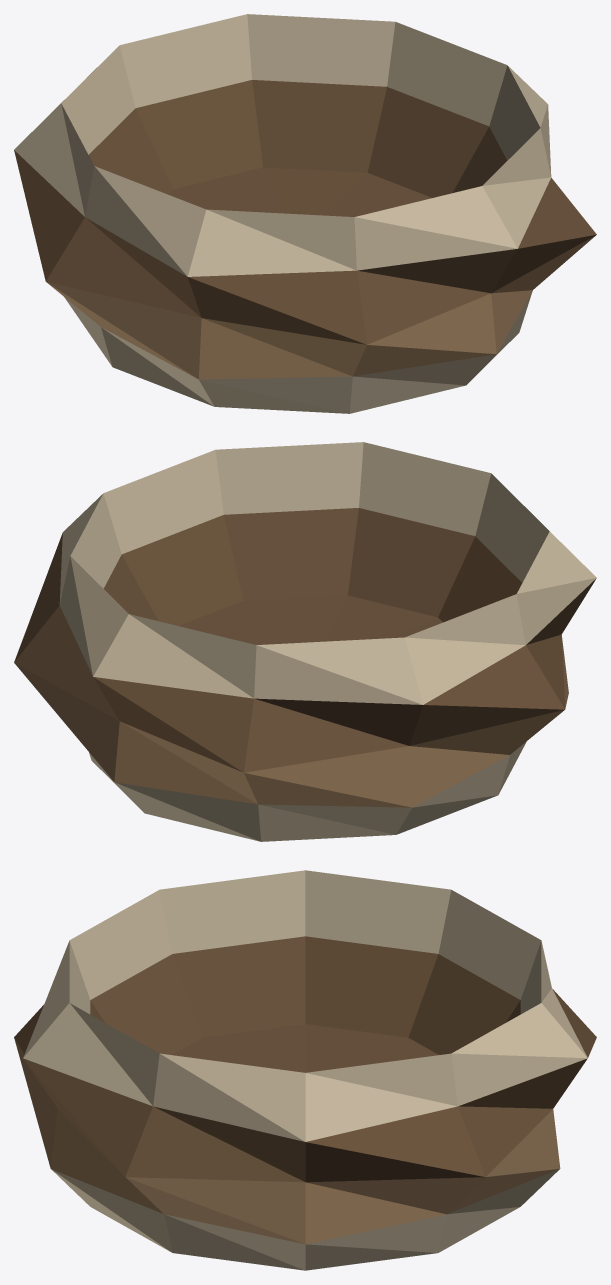
Rendered from acorn_cap.glb.
3 views of the same model, one above another, from view 1: azimuth 30°, elevation 25°; view 2: azimuth 150°, elevation 25°; view 3: azimuth 270°, elevation 25° (orthographic).
Parts seen in each view (by area): view 1: acorn_cap; view 2: acorn_cap; view 3: acorn_cap.
Part boxes in pixels (left/top/right/bottom): acorn_cap: left=14, top=14, right=596, bottom=413; acorn_cap: left=14, top=442, right=596, bottom=841; acorn_cap: left=14, top=870, right=596, bottom=1270.
Size of the model in its own units: 0.028 by 0.012 by 0.028.
